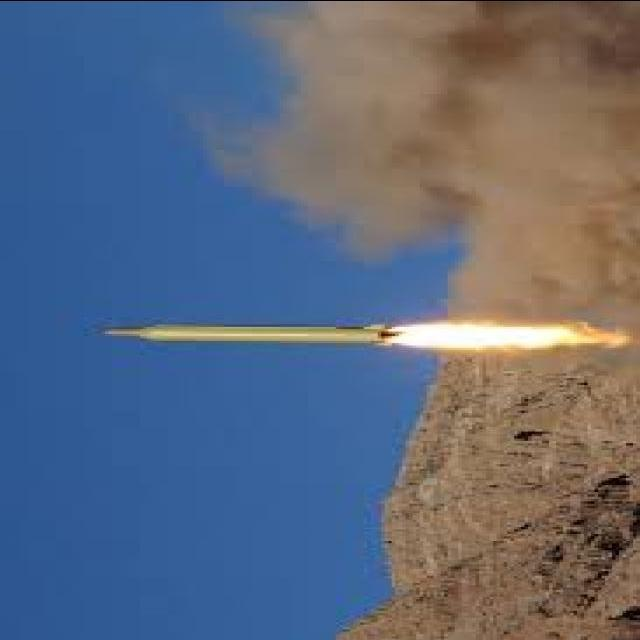missile: (79, 315, 411, 353)
